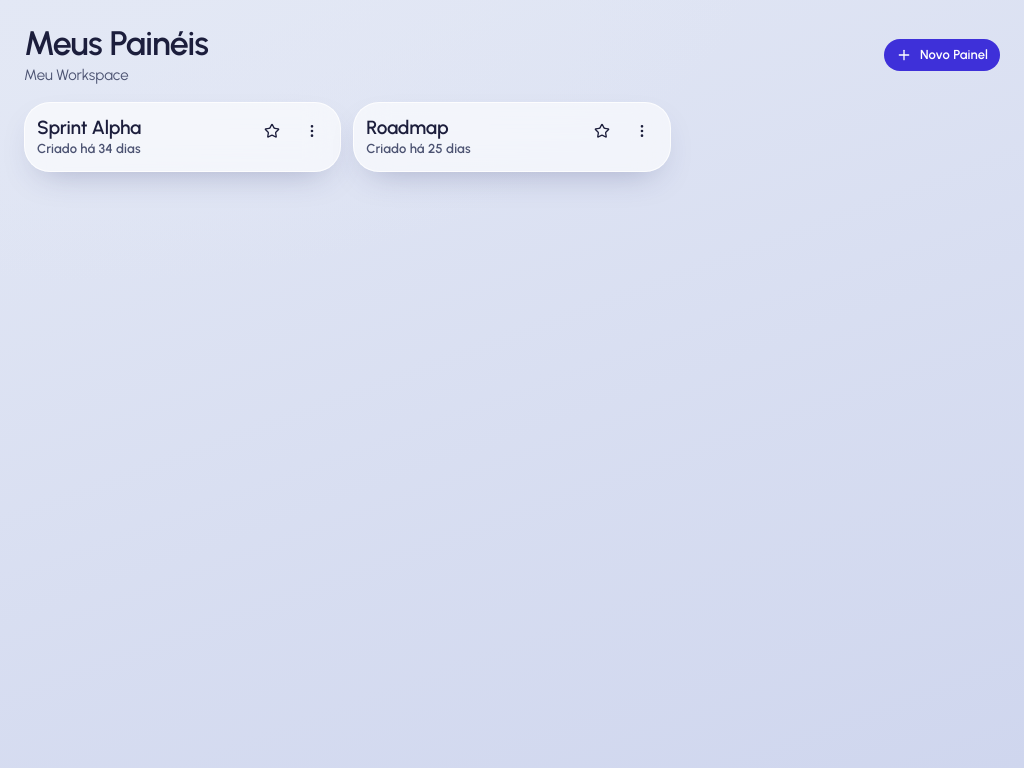
Test case: PaineisPage › "Excluir" no card abre a confirmação daquele board
Click the button named "Ações de Roadmap" next to "há 25 dias" at (642, 131), box [626,115,658,147]
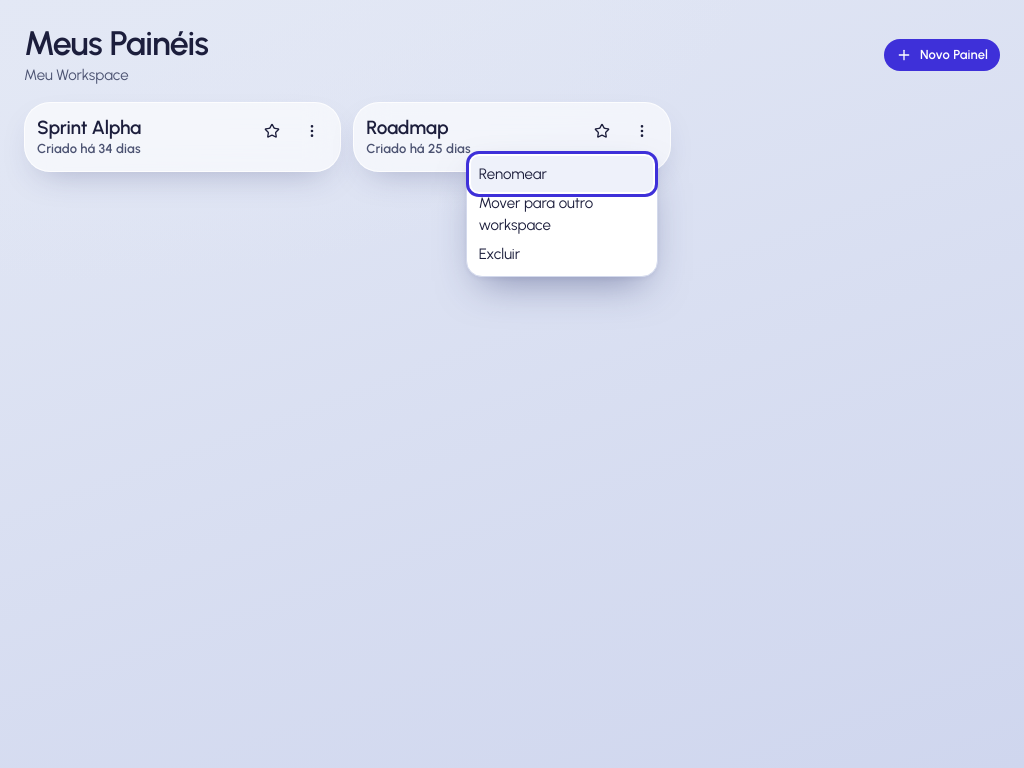
Click the menu item "Excluir" at (562, 254), box [471,236,653,272]
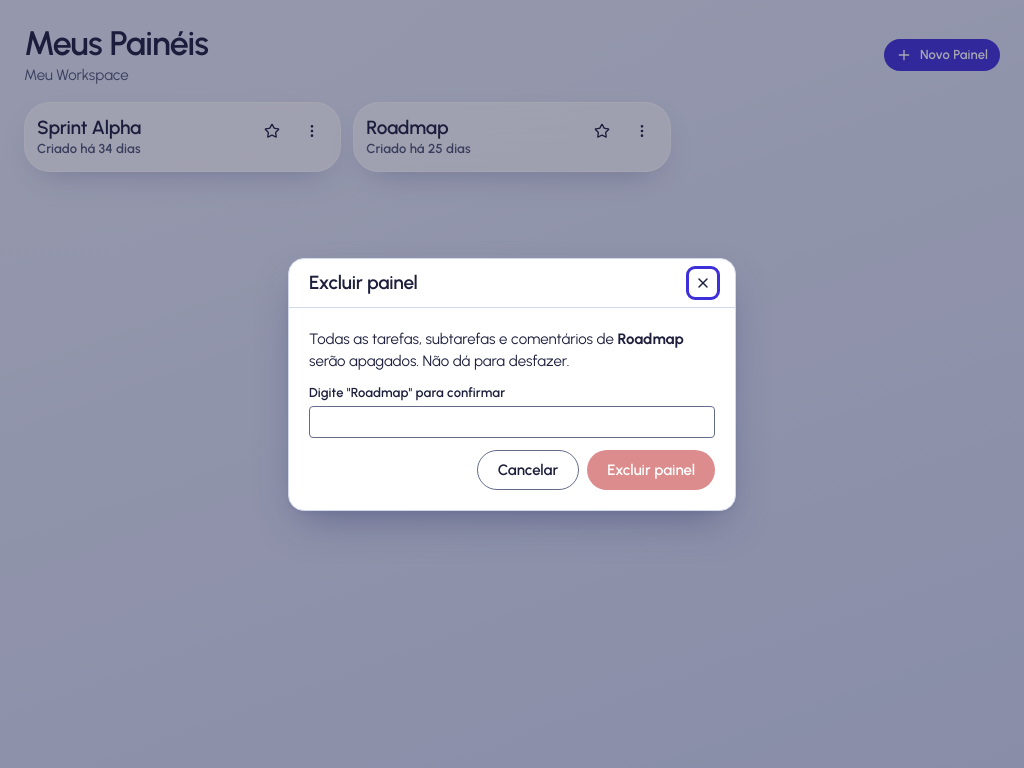
Now the dialog "Excluir painel" is shown, box [288,258,736,510]
Now the field labelled "Digite \"Roadmap\" para confirmar" is shown, box [309,406,715,438]
